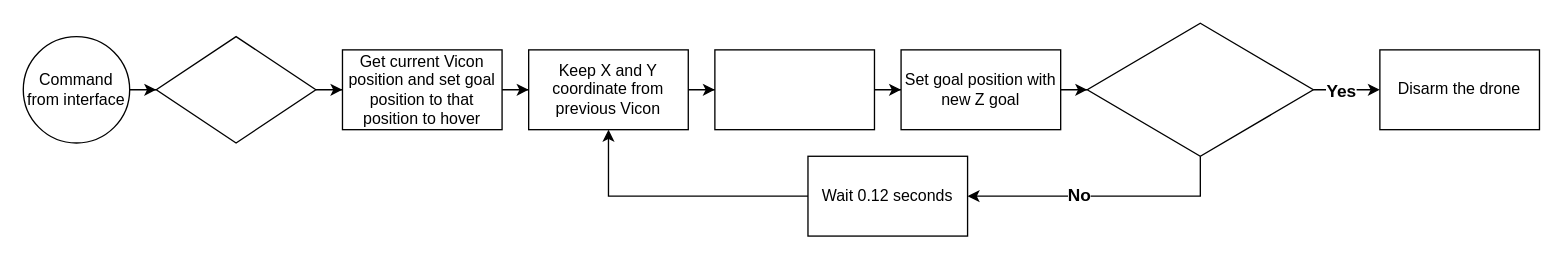
This 1563x259 diagram has some shape labels left out. The shapes that lost their labels are listed below. From the top down, each one's box as (x1, y1, x2, y2) in pixels, then its label:
(155, 35, 316, 143): Is the command "Turnoff"
(714, 49, 874, 130): Remove 0.15 meter from Z position
(1086, 22, 1313, 156): Are the last 2 cycles' Z position from Vicon the same?
